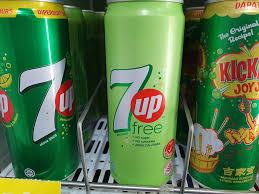metal: (99, 0, 180, 186), (0, 0, 81, 176), (186, 0, 259, 189)
